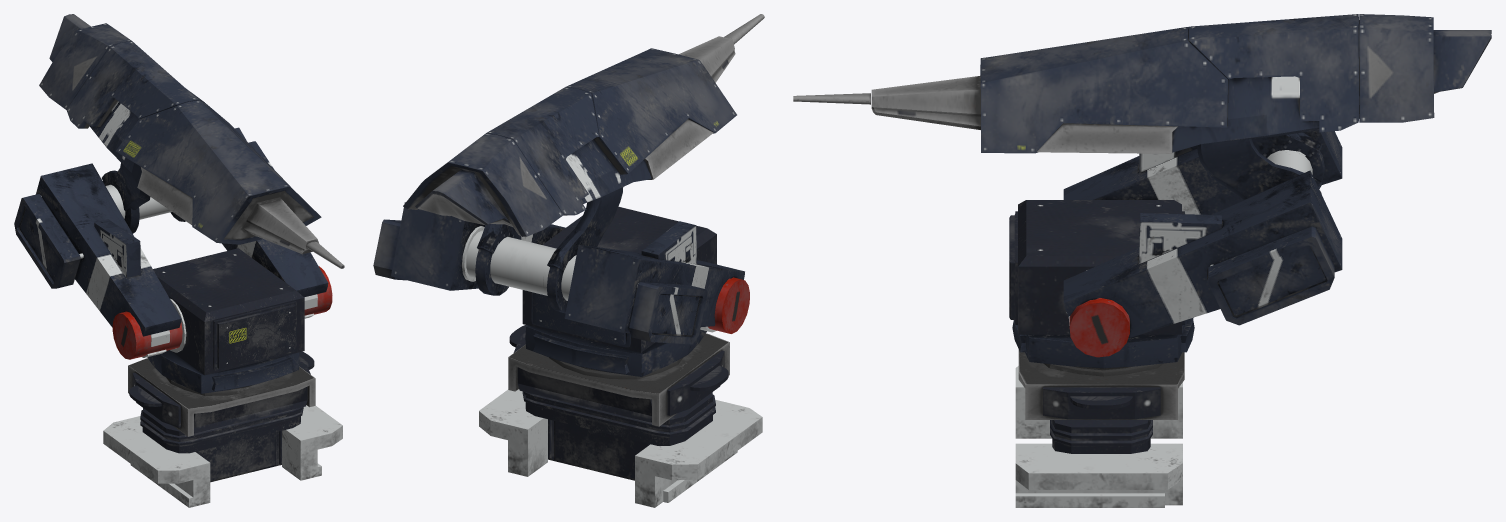
The model's file is Turret_2.fbx.
3 views of the same model, side by side, from view 1: azimuth 30°, elevation 25°; view 2: azimuth 150°, elevation 25°; view 3: azimuth 270°, elevation 25° (orthographic). The views are drawn at different scales.
Parts seen in each view (by area): view 1: node_779f97cf_276d_4c42_b65d_e8221514fb8a_mesh0, node_20c04f13_5622_42c4_82f6_142457cc65e6_mesh0, node_c924bb86_61e6_4e96_a772_440a6aa87ca2_mesh0, node_0a2a981b_d7dd_46e2_9c0b_abfee1e114eb_mesh0, node_93bfd17d_c32e_4fe2_b972_c3871ad77402_mesh0, node_fd1b5e95_844c_4bb7_b64f_12e8ea6ecbff_mesh0, node_59de518e_d355_4474_b3a5_871119979035_mesh0, node_e6eb4b6c_faf3_496c_bbb0_9f86f9d42b17_mesh0, node_3b7d431f_98f2_4f27_83bc_bc5d65276342_mesh0, node_8688e1de_c2e4_4609_aefc_1d55fce7e8cb_mesh0, node_98df18b1_cc7d_4d22_9952_50bd4423284e_mesh0, node_2b44d7eb_1701_43ac_a65f_bd4c58571014_mesh0 (+13 smaller); view 2: node_c924bb86_61e6_4e96_a772_440a6aa87ca2_mesh0, node_20c04f13_5622_42c4_82f6_142457cc65e6_mesh0, node_0a2a981b_d7dd_46e2_9c0b_abfee1e114eb_mesh0, node_93bfd17d_c32e_4fe2_b972_c3871ad77402_mesh0, node_e6eb4b6c_faf3_496c_bbb0_9f86f9d42b17_mesh0, node_779f97cf_276d_4c42_b65d_e8221514fb8a_mesh0, node_fd1b5e95_844c_4bb7_b64f_12e8ea6ecbff_mesh0, node_59de518e_d355_4474_b3a5_871119979035_mesh0, node_3b7d431f_98f2_4f27_83bc_bc5d65276342_mesh0, node_8688e1de_c2e4_4609_aefc_1d55fce7e8cb_mesh0, node_98df18b1_cc7d_4d22_9952_50bd4423284e_mesh0, node_5d50831e_e943_44b2_89fc_881a6e2c0197_mesh0 (+12 smaller); view 3: node_c924bb86_61e6_4e96_a772_440a6aa87ca2_mesh0, node_20c04f13_5622_42c4_82f6_142457cc65e6_mesh0, node_779f97cf_276d_4c42_b65d_e8221514fb8a_mesh0, node_93bfd17d_c32e_4fe2_b972_c3871ad77402_mesh0, node_0a2a981b_d7dd_46e2_9c0b_abfee1e114eb_mesh0, node_e6eb4b6c_faf3_496c_bbb0_9f86f9d42b17_mesh0, node_fd1b5e95_844c_4bb7_b64f_12e8ea6ecbff_mesh0, node_7f20ba18_2998_4f1b_b347_30ed50079ecb_mesh0, node_9ef31c66_b68d_4871_975f_2a44b98d79d2_mesh0, node_59de518e_d355_4474_b3a5_871119979035_mesh0, node_8688e1de_c2e4_4609_aefc_1d55fce7e8cb_mesh0, node_2b44d7eb_1701_43ac_a65f_bd4c58571014_mesh0 (+6 smaller).
Boxes of the visible parts, <box> form: node_779f97cf_276d_4c42_b65d_e8221514fb8a_mesh0: <box>153,248,304,375</box>; node_20c04f13_5622_42c4_82f6_142457cc65e6_mesh0: <box>115,100,321,244</box>; node_c924bb86_61e6_4e96_a772_440a6aa87ca2_mesh0: <box>36,127,328,336</box>; node_0a2a981b_d7dd_46e2_9c0b_abfee1e114eb_mesh0: <box>103,405,342,507</box>; node_93bfd17d_c32e_4fe2_b972_c3871ad77402_mesh0: <box>66,41,204,128</box>; node_fd1b5e95_844c_4bb7_b64f_12e8ea6ecbff_mesh0: <box>14,141,274,288</box>; node_59de518e_d355_4474_b3a5_871119979035_mesh0: <box>128,358,315,436</box>; node_e6eb4b6c_faf3_496c_bbb0_9f86f9d42b17_mesh0: <box>39,23,131,109</box>; node_3b7d431f_98f2_4f27_83bc_bc5d65276342_mesh0: <box>140,407,303,453</box>; node_8688e1de_c2e4_4609_aefc_1d55fce7e8cb_mesh0: <box>147,350,299,393</box>; node_98df18b1_cc7d_4d22_9952_50bd4423284e_mesh0: <box>196,431,281,482</box>; node_2b44d7eb_1701_43ac_a65f_bd4c58571014_mesh0: <box>242,197,318,254</box>; node_c924bb86_61e6_4e96_a772_440a6aa87ca2_mesh0: <box>391,202,744,333</box>; node_20c04f13_5622_42c4_82f6_142457cc65e6_mesh0: <box>566,48,736,174</box>; node_0a2a981b_d7dd_46e2_9c0b_abfee1e114eb_mesh0: <box>479,389,762,507</box>; node_93bfd17d_c32e_4fe2_b972_c3871ad77402_mesh0: <box>486,87,599,215</box>; node_e6eb4b6c_faf3_496c_bbb0_9f86f9d42b17_mesh0: <box>403,133,563,236</box>; node_779f97cf_276d_4c42_b65d_e8221514fb8a_mesh0: <box>522,206,716,352</box>; node_fd1b5e95_844c_4bb7_b64f_12e8ea6ecbff_mesh0: <box>373,219,707,344</box>; node_59de518e_d355_4474_b3a5_871119979035_mesh0: <box>508,333,729,426</box>; node_3b7d431f_98f2_4f27_83bc_bc5d65276342_mesh0: <box>522,391,715,445</box>; node_8688e1de_c2e4_4609_aefc_1d55fce7e8cb_mesh0: <box>525,325,706,376</box>; node_98df18b1_cc7d_4d22_9952_50bd4423284e_mesh0: <box>548,419,649,480</box>; node_5d50831e_e943_44b2_89fc_881a6e2c0197_mesh0: <box>466,230,576,300</box>; node_c924bb86_61e6_4e96_a772_440a6aa87ca2_mesh0: <box>1063,130,1342,337</box>; node_20c04f13_5622_42c4_82f6_142457cc65e6_mesh0: <box>980,27,1228,153</box>; node_779f97cf_276d_4c42_b65d_e8221514fb8a_mesh0: <box>1009,200,1189,334</box>; node_93bfd17d_c32e_4fe2_b972_c3871ad77402_mesh0: <box>1189,14,1359,132</box>; node_0a2a981b_d7dd_46e2_9c0b_abfee1e114eb_mesh0: <box>1015,366,1182,507</box>; node_e6eb4b6c_faf3_496c_bbb0_9f86f9d42b17_mesh0: <box>1359,14,1434,122</box>; node_fd1b5e95_844c_4bb7_b64f_12e8ea6ecbff_mesh0: <box>1207,226,1334,325</box>; node_7f20ba18_2998_4f1b_b347_30ed50079ecb_mesh0: <box>1172,76,1319,152</box>; node_9ef31c66_b68d_4871_975f_2a44b98d79d2_mesh0: <box>1197,132,1321,199</box>; node_59de518e_d355_4474_b3a5_871119979035_mesh0: <box>1018,349,1184,419</box>; node_8688e1de_c2e4_4609_aefc_1d55fce7e8cb_mesh0: <box>1012,317,1194,368</box>; node_2b44d7eb_1701_43ac_a65f_bd4c58571014_mesh0: <box>871,76,980,129</box>.
Bounding box in the file's own units: 2198 × 3164 × 4479.
1 material, 1 textured.
